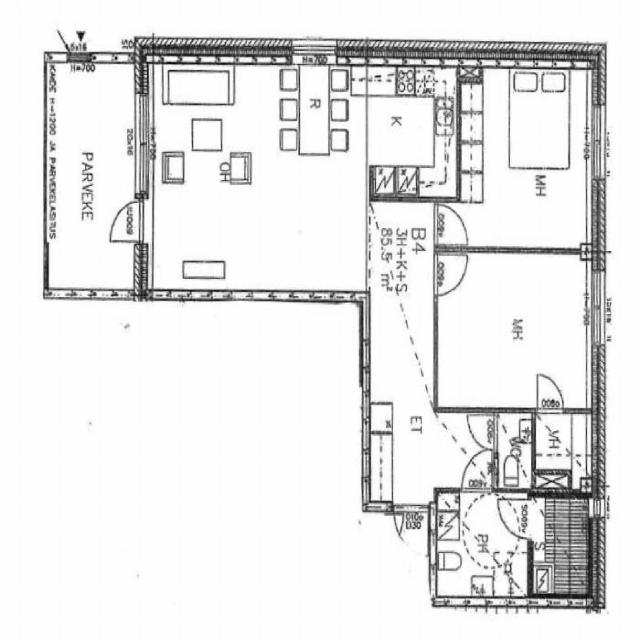door: (393, 502, 428, 558), (105, 202, 148, 241), (461, 447, 492, 492), (434, 255, 468, 295), (434, 205, 468, 245), (498, 499, 532, 539), (537, 372, 564, 412), (467, 415, 497, 450)
